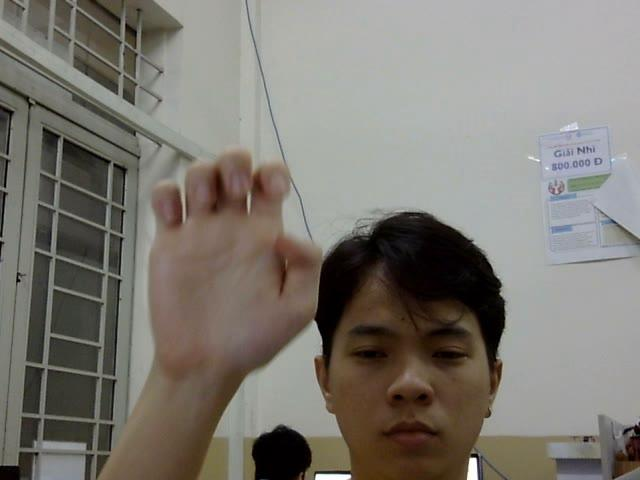E: (144, 145, 321, 379)
